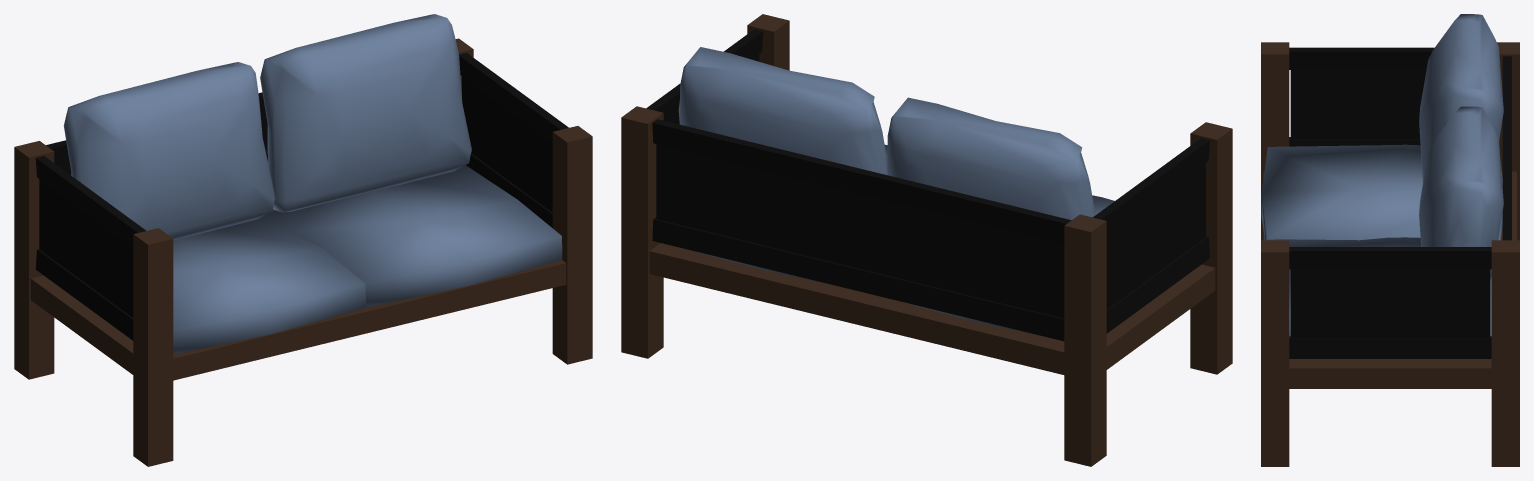
The model's file is bay-lounge-sofa.lod0.glb.
3 views of the same model, side by side, from view 1: azimuth 30°, elevation 25°; view 2: azimuth 150°, elevation 25°; view 3: azimuth 270°, elevation 25° (orthographic). The views are drawn at different scales.
Parts seen in each view (by area): view 1: LoungeSofa_LeatherWeave_0; view 2: LoungeSofa_LeatherWeave_0; view 3: LoungeSofa_LeatherWeave_0.
Part boxes in pixels (x1,y1,x2,y2): LoungeSofa_LeatherWeave_0: (14, 14, 592, 466); LoungeSofa_LeatherWeave_0: (621, 14, 1232, 466); LoungeSofa_LeatherWeave_0: (1261, 14, 1519, 466).
Size of the model in its own units: 1.6 by 0.9505 by 0.8343.
